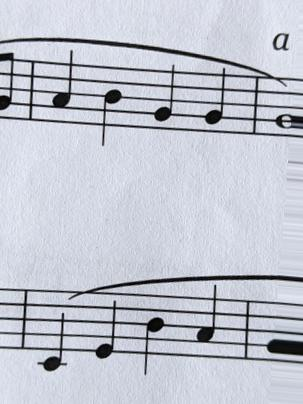note: (37, 281, 73, 378), (137, 289, 167, 377), (47, 46, 77, 129), (96, 59, 122, 150), (192, 284, 220, 367), (91, 288, 120, 364), (201, 64, 227, 140), (150, 61, 176, 136)
